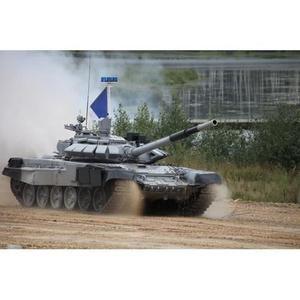Battle Tank: (3, 121, 224, 217)
